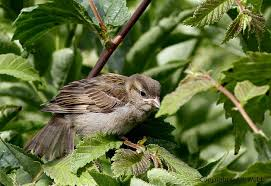hsparrow: (24, 71, 163, 151)
